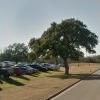Tree: (33, 16, 83, 70)
